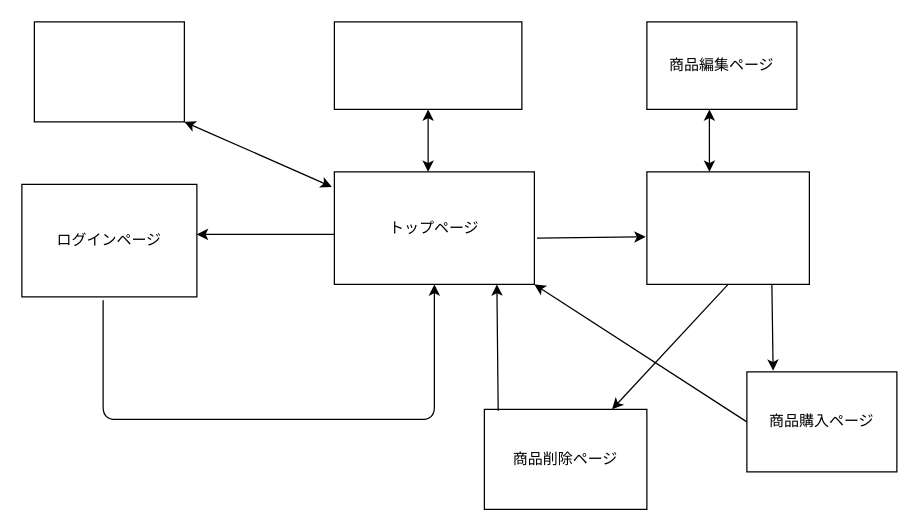
Image size: 919x531. Some labels were removed from this diagram. Each missing label, with the centre of its shape:
商品出品ページ: pixel 427 65
商品詳細ページ: pixel 727 227
新規登録ページ: pixel 108 71
